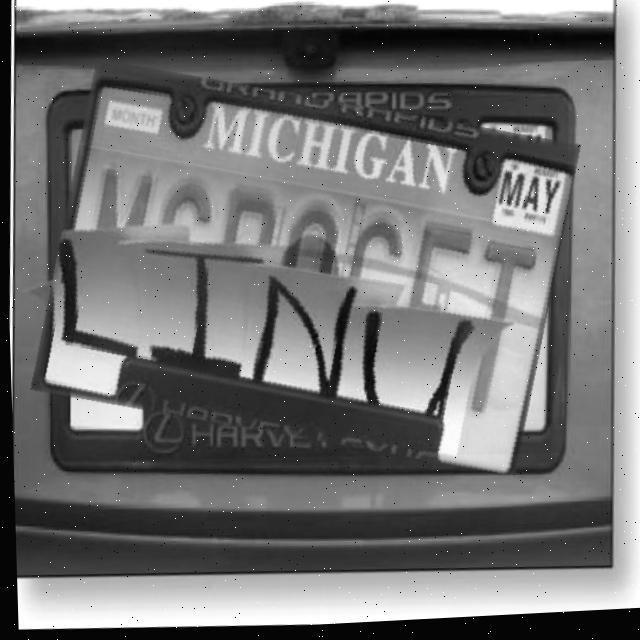LicensePlate: (32, 60, 576, 480)
